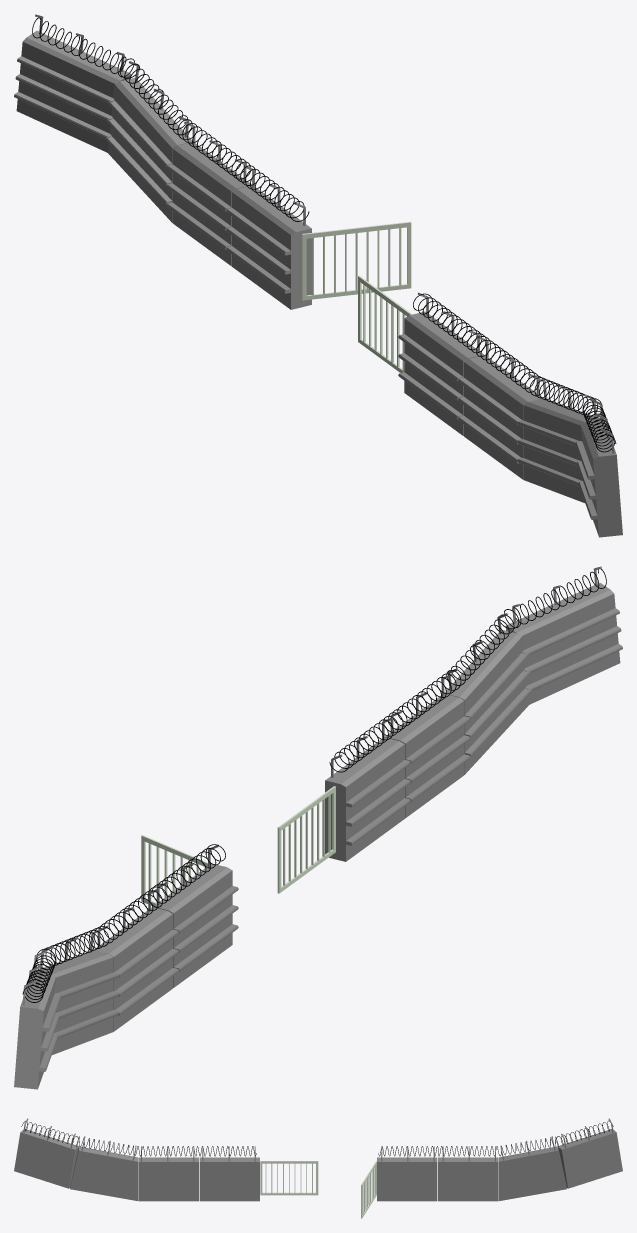
Rendered from 23 Wall.FBX.
3 renders of one model, top to bottom at view 1: azimuth 30°, elevation 25°; view 2: azimuth 150°, elevation 25°; view 3: azimuth 270°, elevation 25°, orthographic. The views are drawn at different scales.
Visible parts, largest first — view 1: Wall; view 2: Wall; view 3: Wall.
Part boxes in pixels (x1,y1,x2,y2): Wall: [14, 14, 622, 537]; Wall: [14, 566, 622, 1089]; Wall: [14, 1118, 622, 1218].
Size of the model in its own units: 893 by 775 by 6066.
